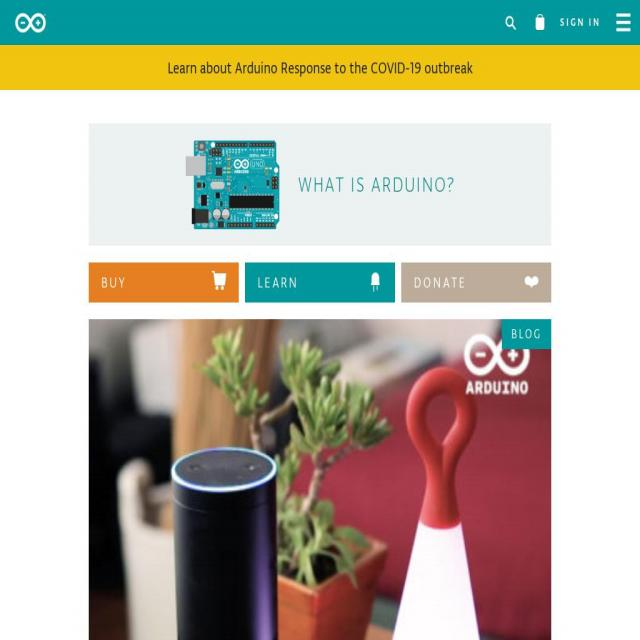buy-option: (80, 256, 244, 302)
login-option: (553, 5, 605, 38)
options: (609, 5, 639, 45)
search: (498, 6, 524, 36)
